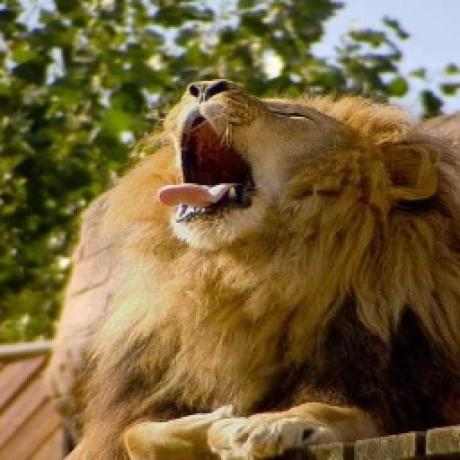Lion: (39, 66, 460, 460)
